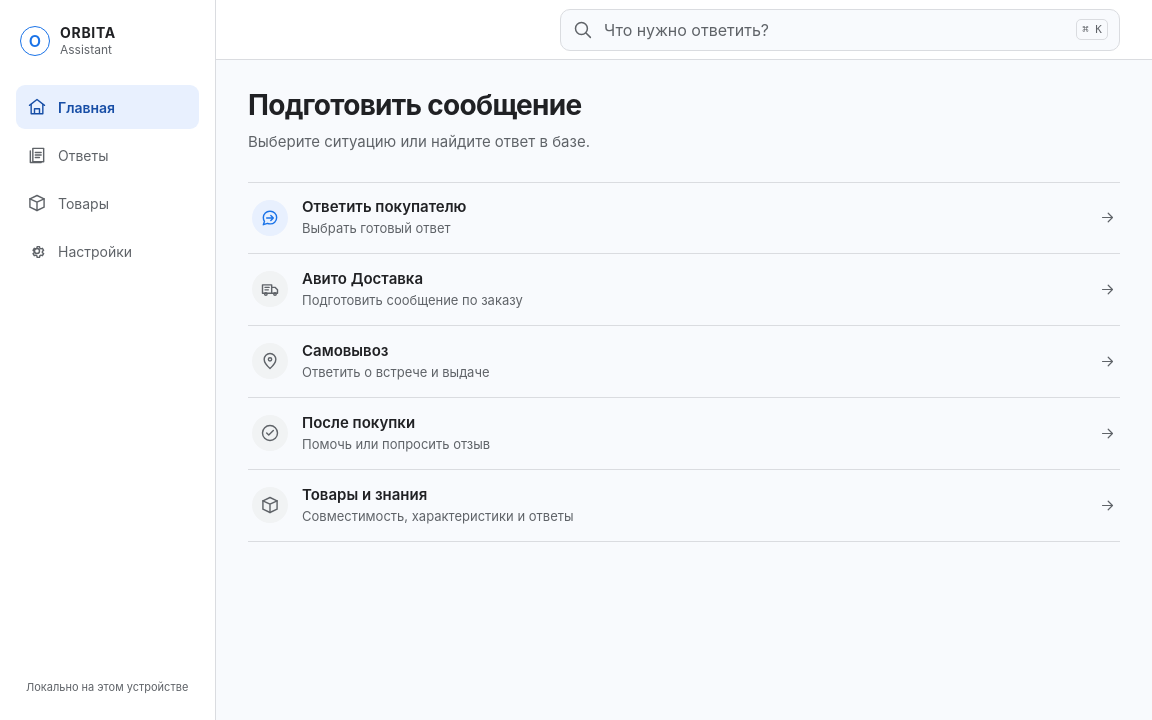
it: app shell › opens a neutral pickup flow without promising a confirmed visit
What coordinates should you click on to do the following:
click the button "Самовывоз Ответить о встрече и выдаче"
I would click on:
 (270, 361)
Its box is [248,326,1120,398].
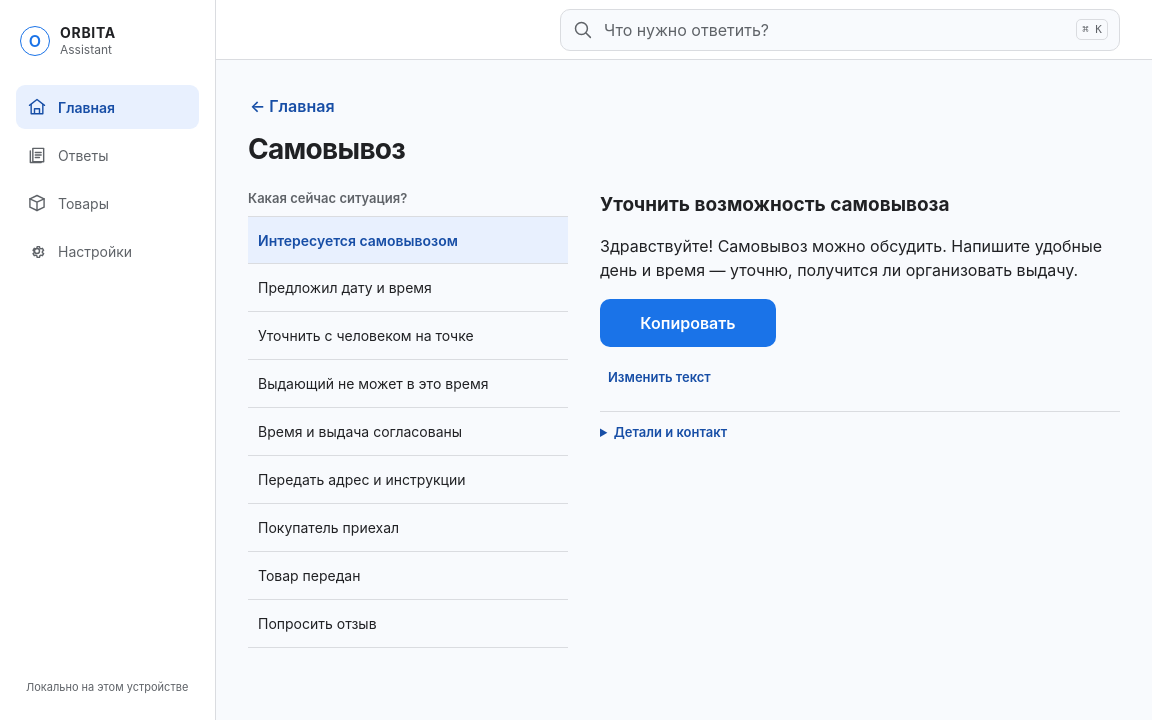
Check: the heading "Самовывоз" is shown, box [248,132,405,166]
Check: the text "уточню, получится ли организовать выдачу" is shown, box [600,236,1107,280]
